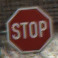stopsign: (7, 7, 53, 54)
